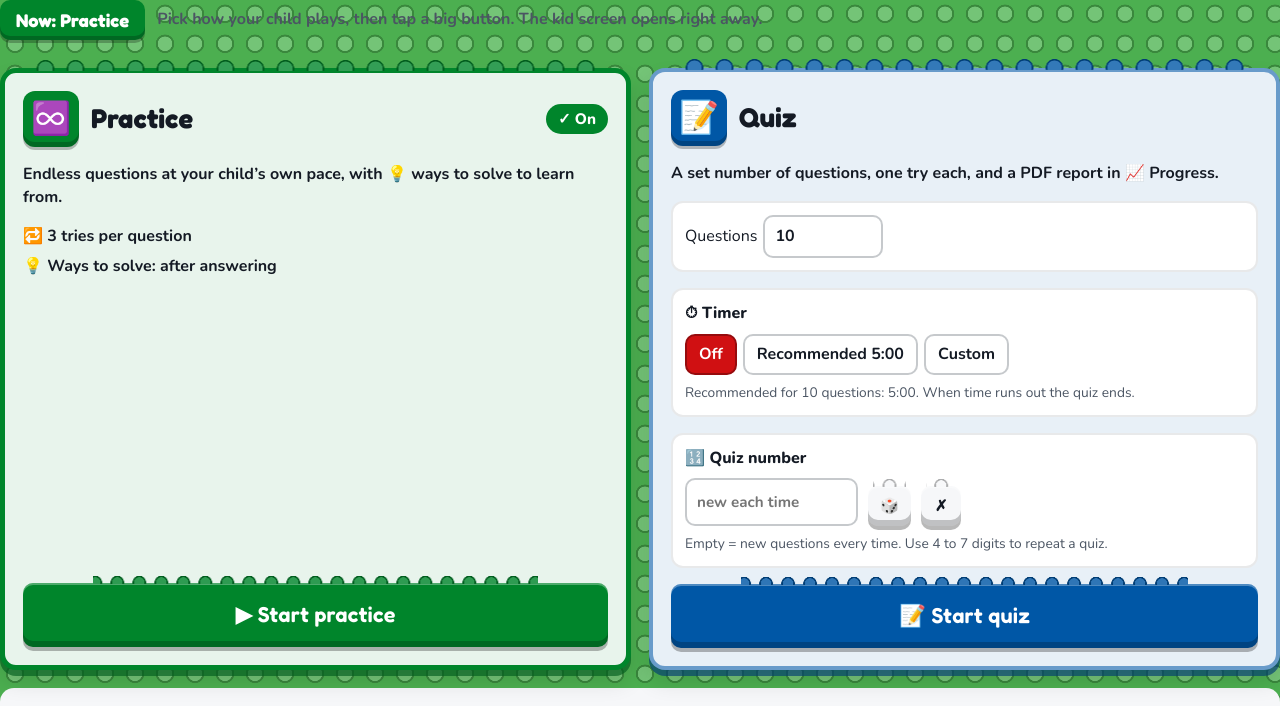
🏠 StartSection › Start quiz switches to QUIZ, resets the session and opens the kid screen
Expected: the text "Now: Practice" is shown, [0,0,145,40]
Click the button "📝 Start quiz" at (964, 616), box [671,584,1258,648]
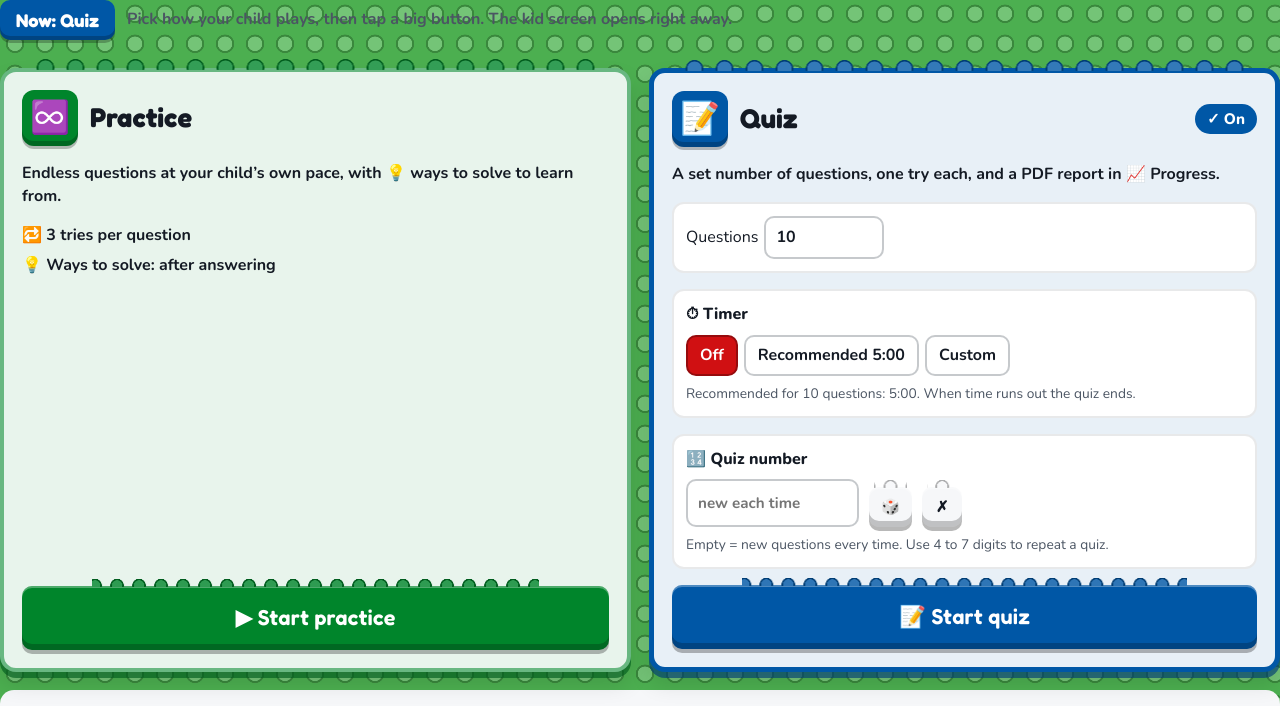
Now the text "Now: Quiz" is shown, box [0,0,115,40]
